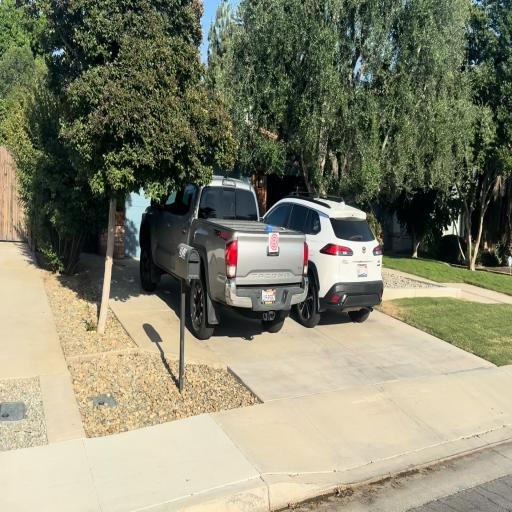bullseye: (269, 232, 279, 252)
